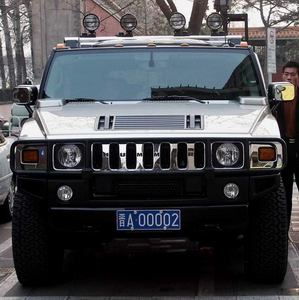plate_number: (115, 207, 184, 233)
